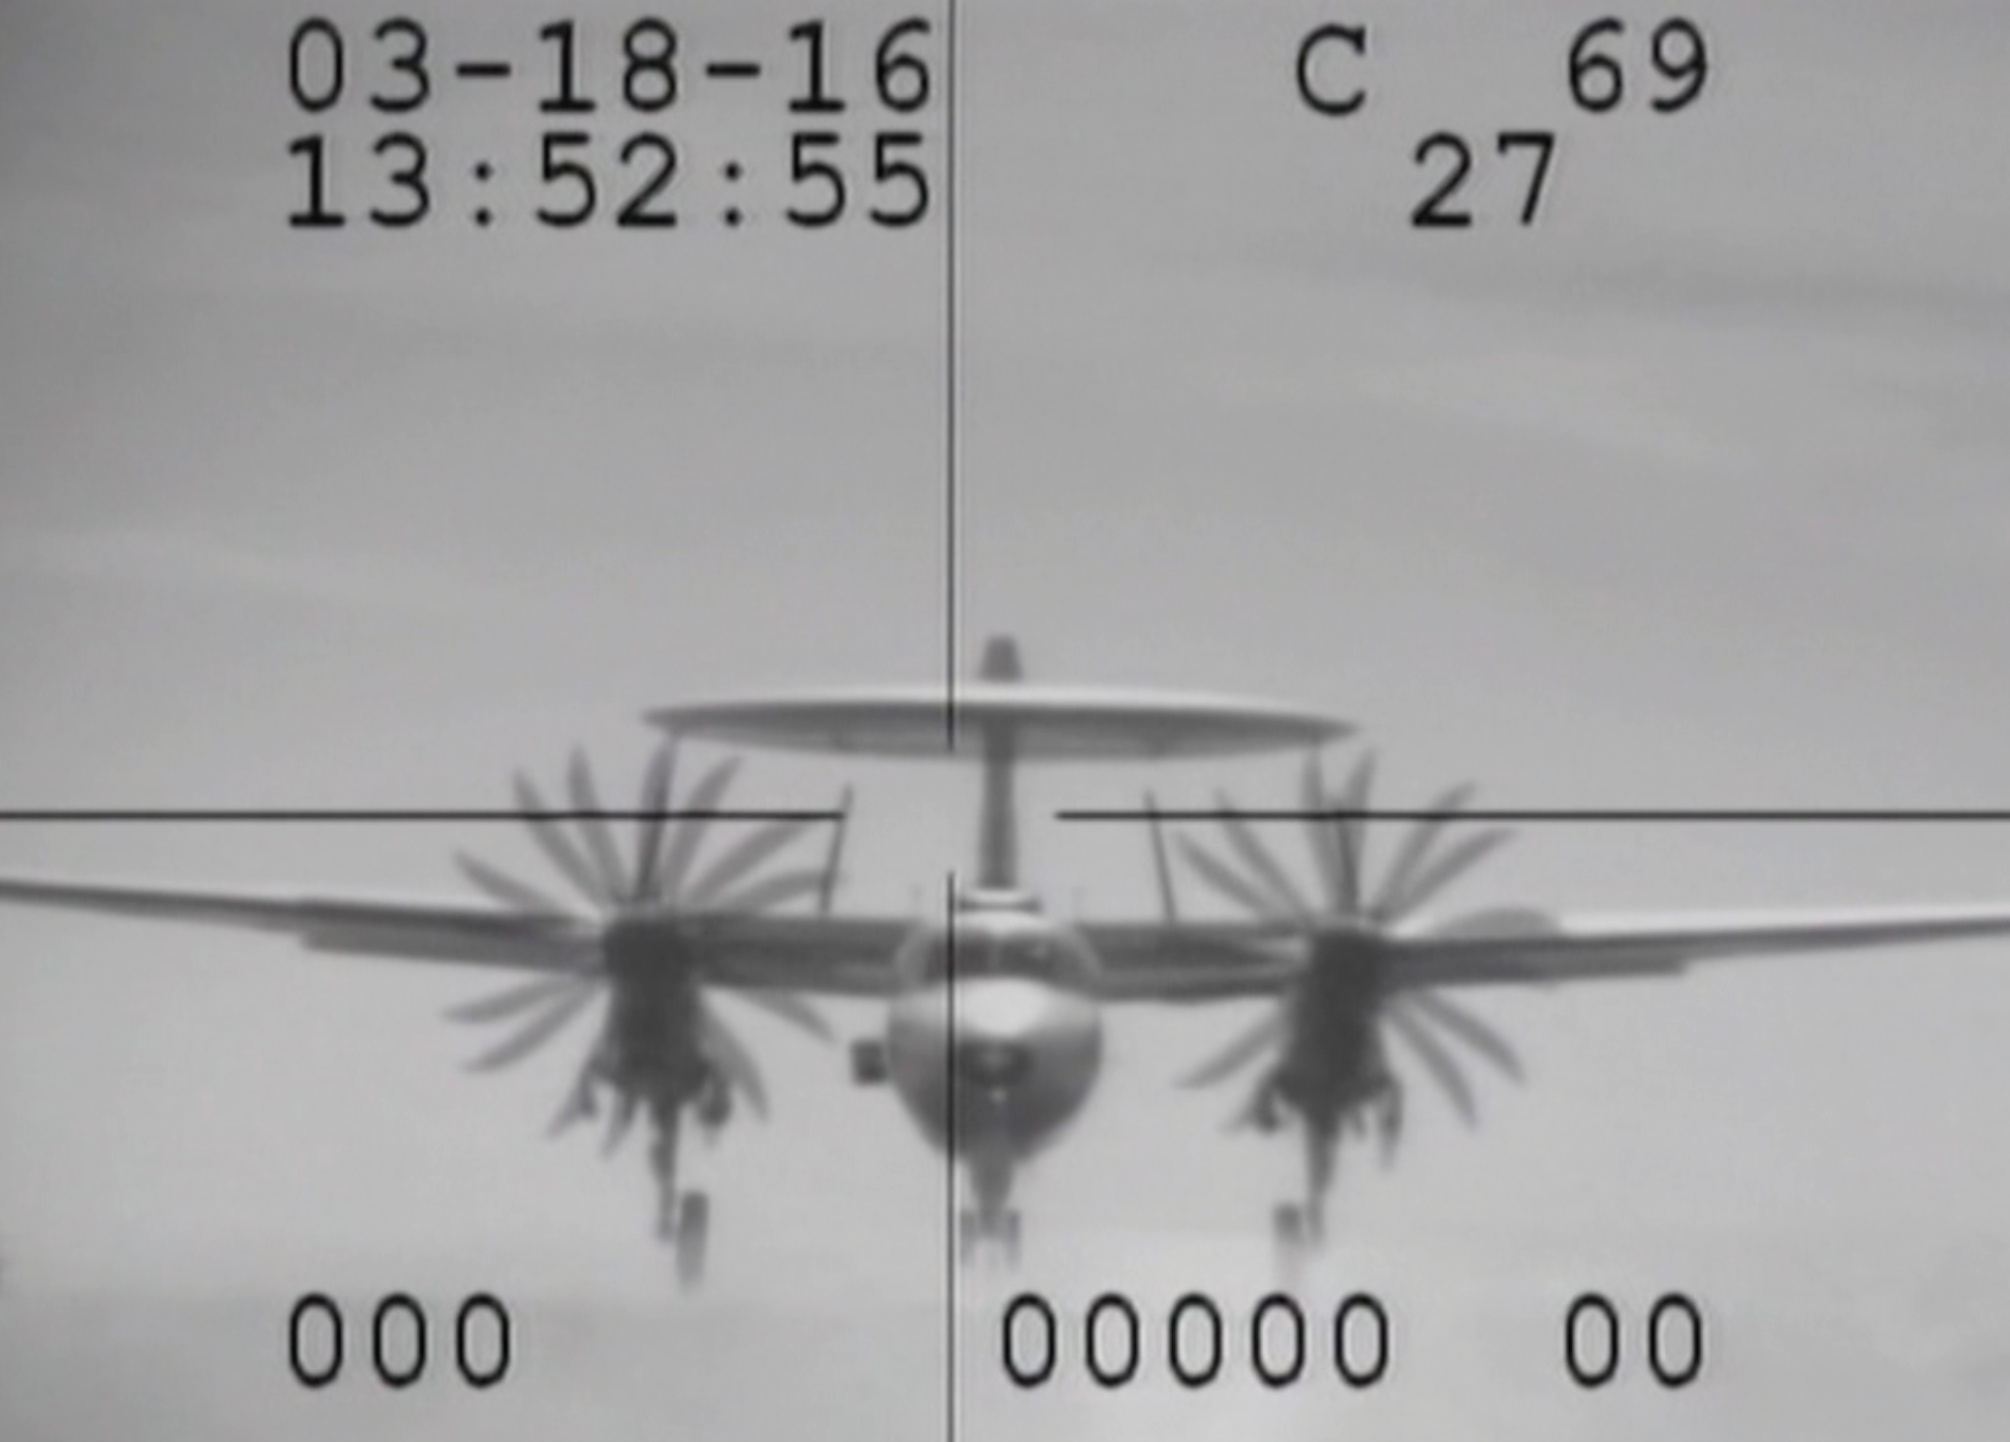E2: (2, 630, 2010, 1291)
